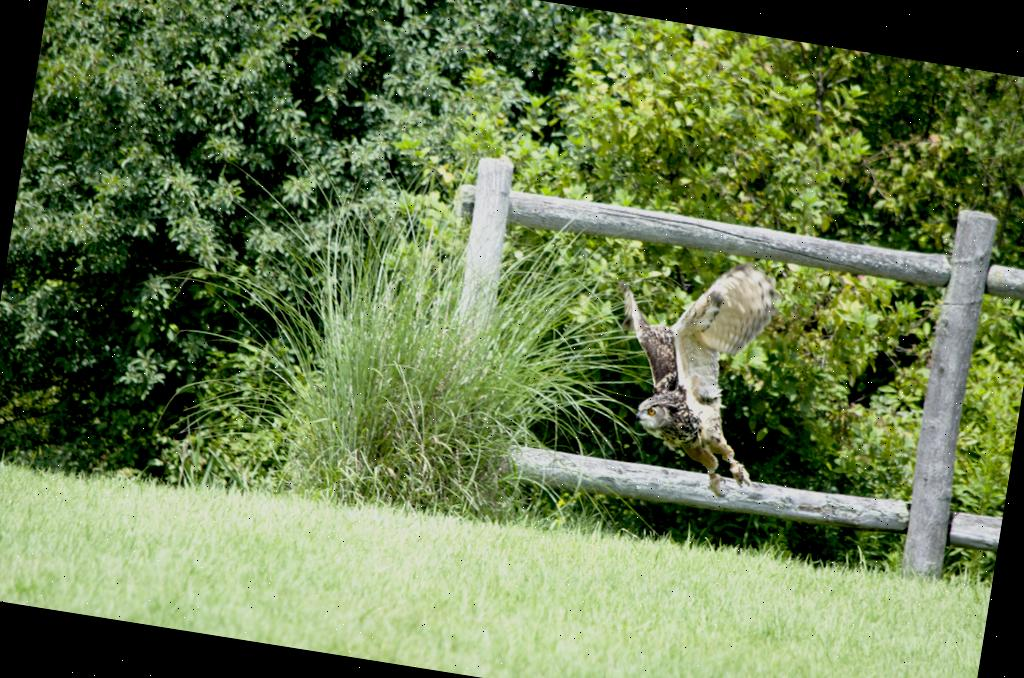Owl: (594, 243, 792, 498)
